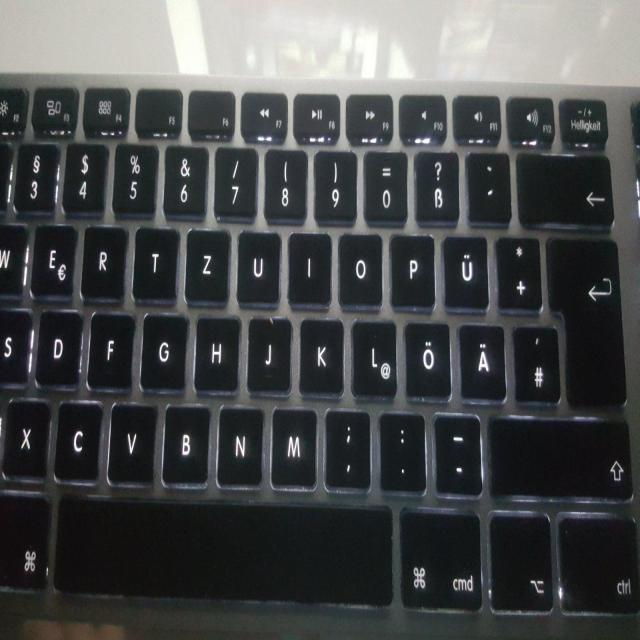0: (361, 145, 408, 223)
3: (12, 139, 58, 213)
4: (60, 138, 107, 212)
5: (110, 138, 158, 215)
6: (160, 140, 208, 216)
7: (212, 142, 258, 219)
8: (262, 145, 307, 221)
9: (311, 147, 357, 221)
accent: (464, 147, 510, 221)
ae: (456, 319, 506, 401)
altgr-right: (488, 509, 553, 617)
b: (159, 399, 211, 485)
c: (51, 395, 102, 483)
comma: (322, 403, 371, 490)
d: (33, 305, 81, 389)
del: (514, 149, 615, 226)
e: (29, 218, 76, 298)
enter: (543, 229, 628, 409)
f: (86, 308, 133, 390)
g: (138, 309, 187, 391)
h: (192, 311, 239, 392)
hash: (511, 320, 560, 402)
i: (286, 227, 331, 303)
j: (245, 312, 291, 394)
k: (297, 312, 344, 395)
keyboard: (2, 71, 638, 632)
l: (349, 316, 397, 397)
m: (268, 402, 318, 489)
minus: (431, 408, 482, 494)
n: (214, 401, 263, 487)
o: (336, 228, 382, 307)
oe: (402, 317, 451, 400)
p: (388, 229, 435, 307)
plus: (493, 231, 542, 309)
point: (377, 406, 426, 491)
r: (79, 220, 127, 299)
s: (1, 304, 32, 386)
shift-right: (486, 412, 632, 500)
space: (48, 496, 397, 604)
ss: (413, 147, 460, 223)
strg-right: (555, 509, 637, 617)
t: (130, 222, 178, 300)
u: (235, 227, 280, 306)
ue: (440, 231, 488, 309)
v: (104, 397, 157, 483)
w: (0, 219, 27, 297)
x: (1, 394, 50, 480)
z: (182, 224, 230, 303)
